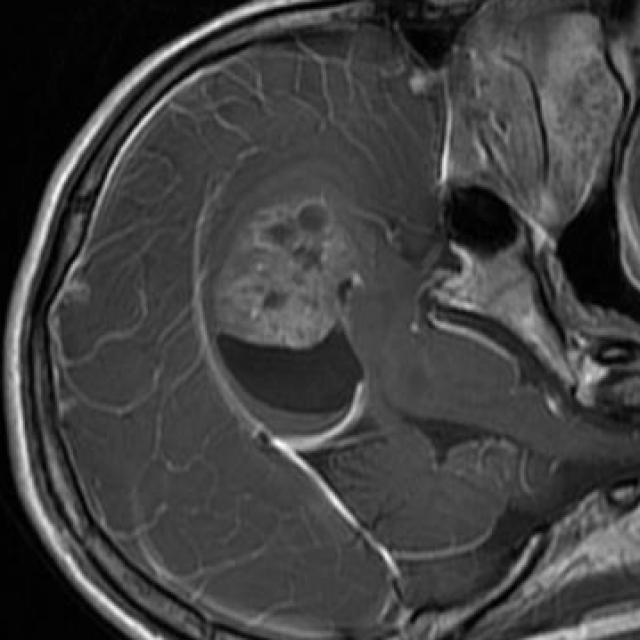glioma: (203, 166, 365, 417)
